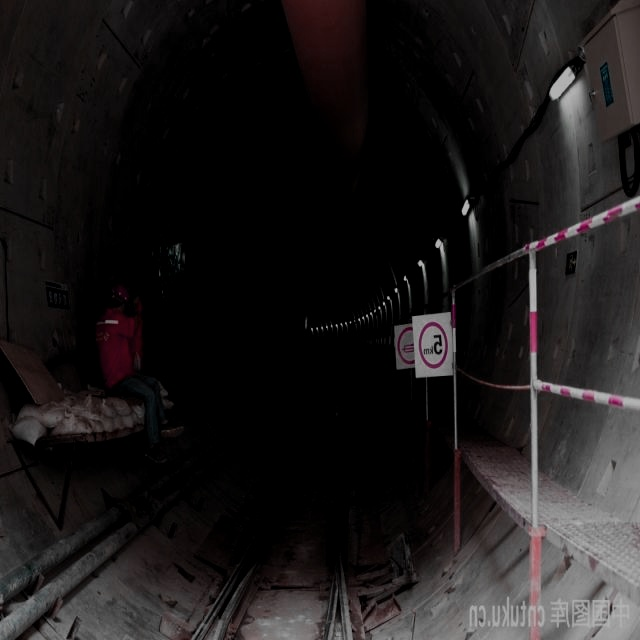Con_Casco: (109, 283, 131, 314)
